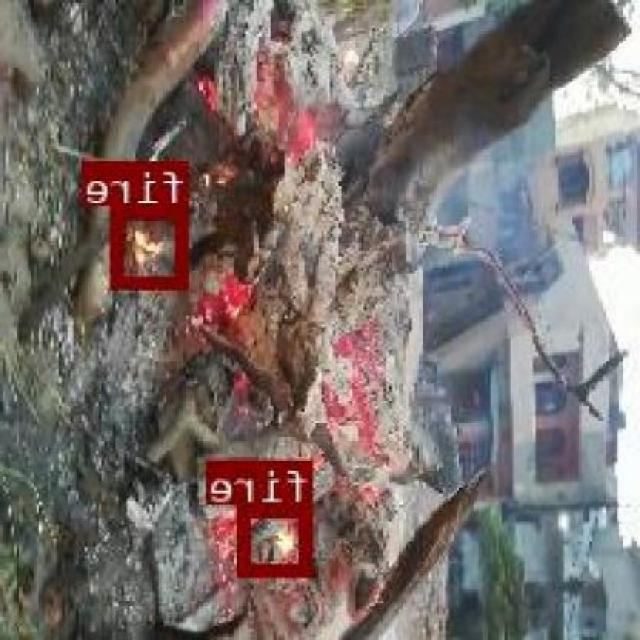Fire: (115, 205, 192, 286), (240, 504, 316, 573)
